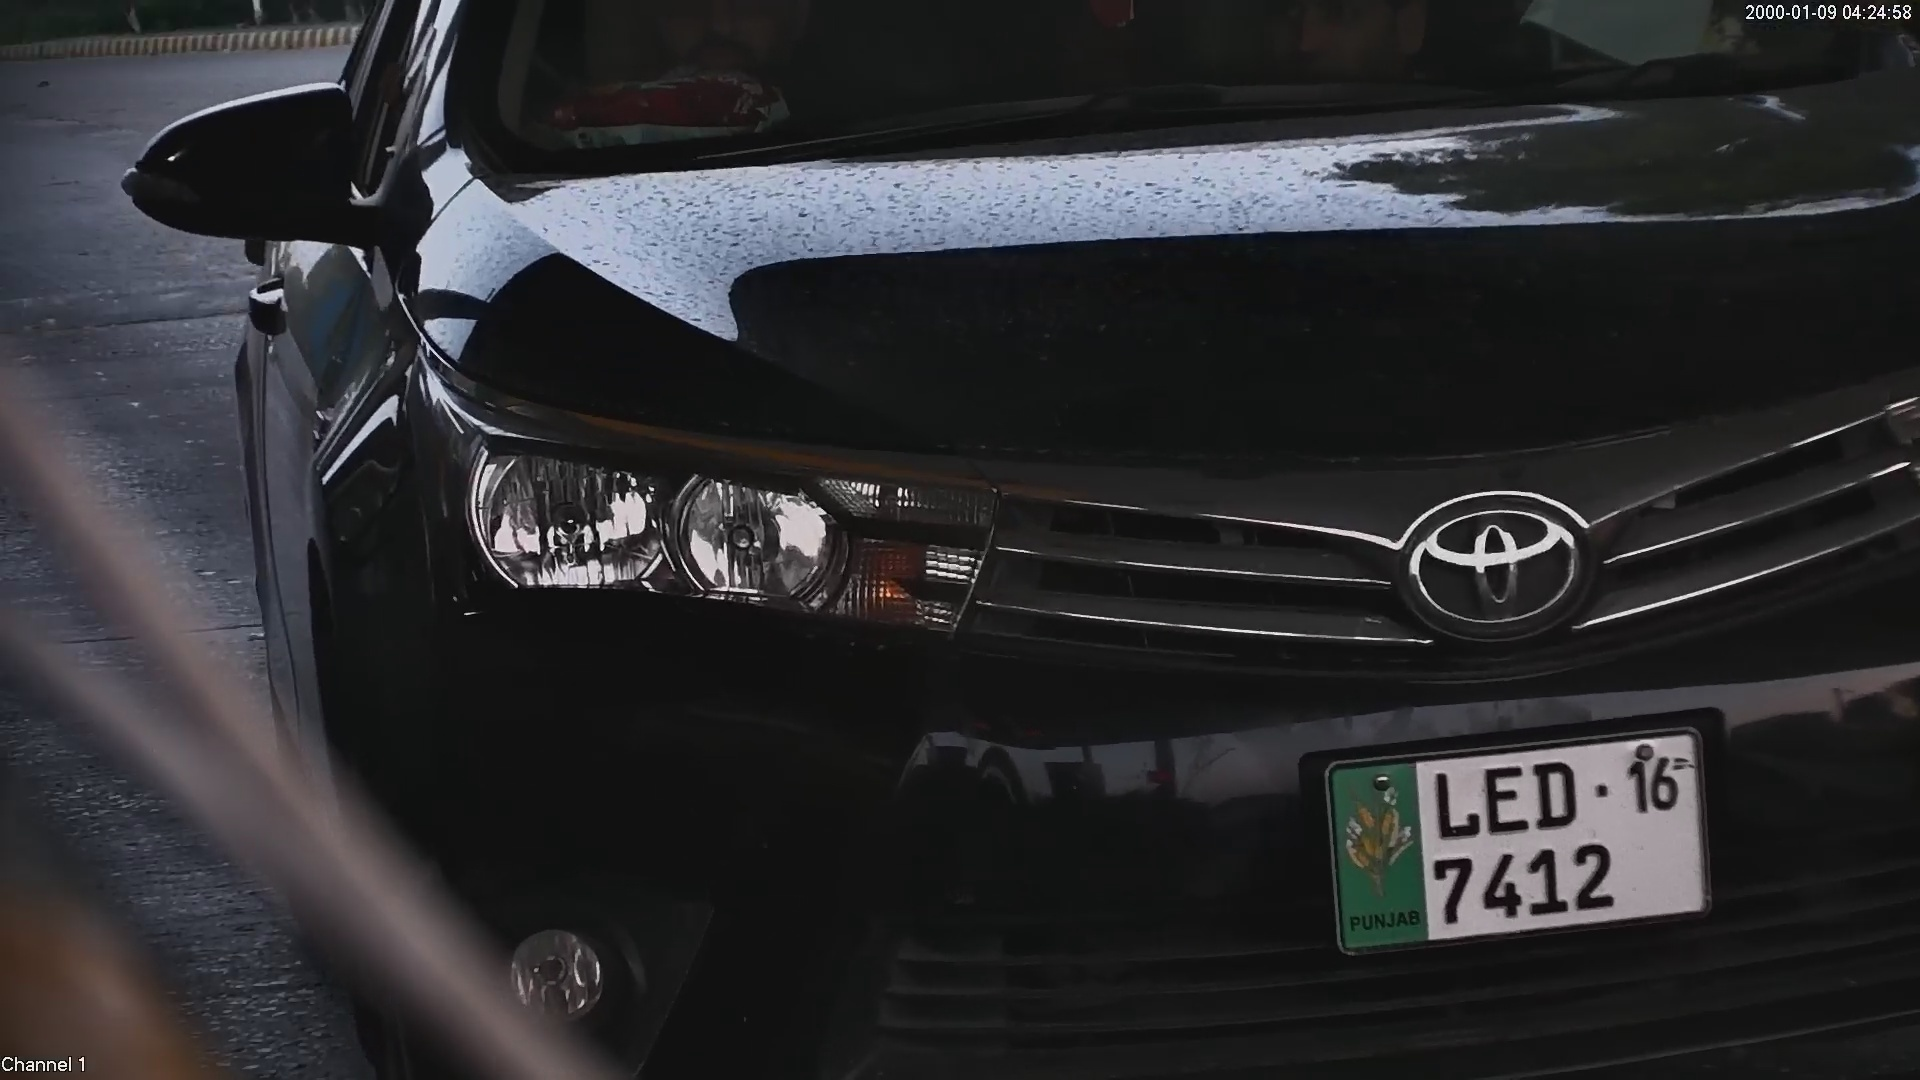Number_Plate: (1300, 714, 1734, 953)
Undefined: (467, 423, 978, 631), (1406, 488, 1593, 631)
